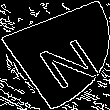N_NW: (16, 23, 94, 87)
